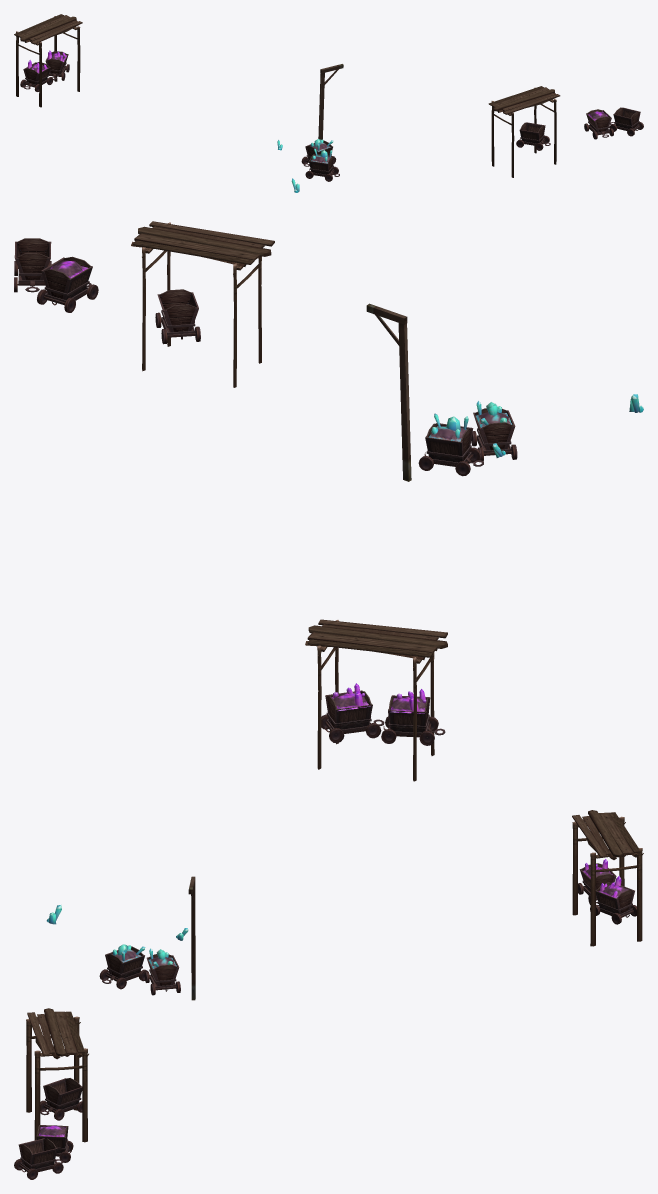
The model's file is area_10_shuijing_1.FBX.
The picture shows the model from 3 angles, top to bottom: view 1: azimuth 30°, elevation 25°; view 2: azimuth 150°, elevation 25°; view 3: azimuth 270°, elevation 25°; orthographic projection. The views are drawn at different scales.
Visible parts, largest first — view 1: area_10_shuijing_1; view 2: area_10_shuijing_1; view 3: area_10_shuijing_1.
Part boxes in pixels (x1,y1,x2,y2): area_10_shuijing_1: (14,14,643,192); area_10_shuijing_1: (14,221,643,781); area_10_shuijing_1: (14,810,643,1179).
Bounding box in the file's own units: 4309 × 961 × 3841.
